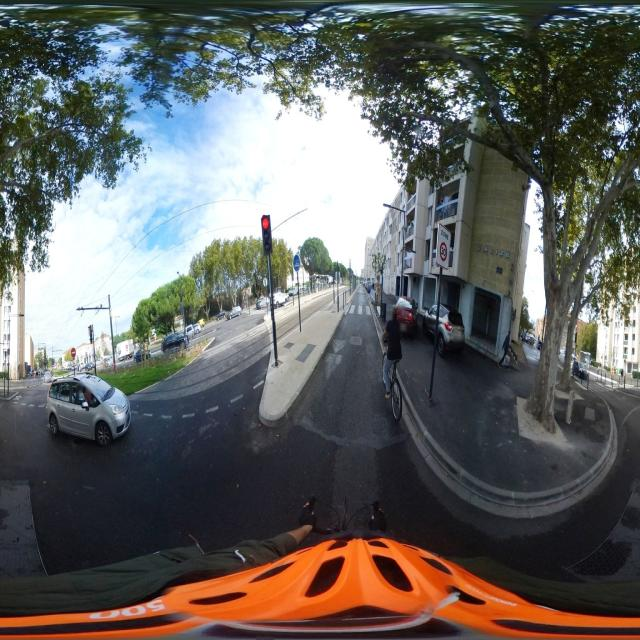bike: (383, 356, 405, 421)
car: (46, 375, 132, 448), (424, 302, 465, 357), (390, 296, 417, 338), (162, 331, 190, 352), (571, 359, 589, 381), (272, 289, 286, 308), (132, 348, 151, 362), (183, 326, 197, 339), (256, 296, 268, 310), (230, 306, 242, 318), (43, 371, 52, 385), (216, 310, 227, 321), (289, 286, 299, 298), (192, 323, 203, 333), (84, 362, 92, 373), (78, 360, 85, 370), (198, 319, 205, 326)
